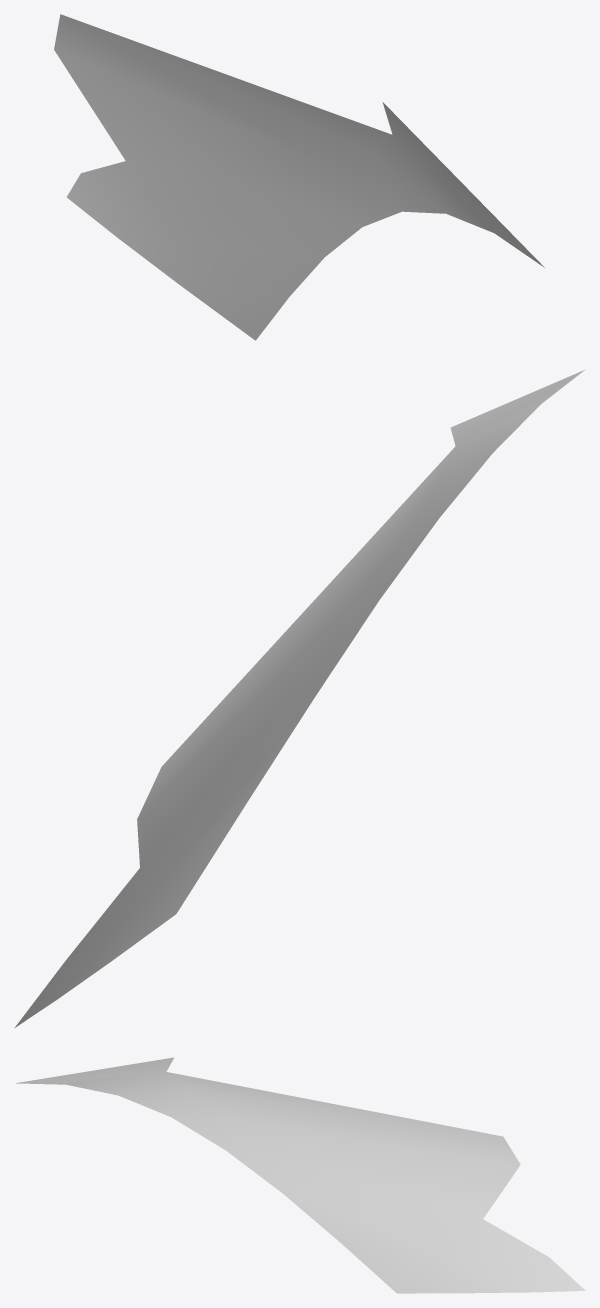
The picture shows the model from 3 angles, top to bottom: view 1: azimuth 30°, elevation 25°; view 2: azimuth 150°, elevation 25°; view 3: azimuth 270°, elevation 25°; orthographic projection. The views are drawn at different scales.
Bounding box in the file's own units: 0.0586 × 0.2489 × 0.6063.
1 material, 1 textured.
